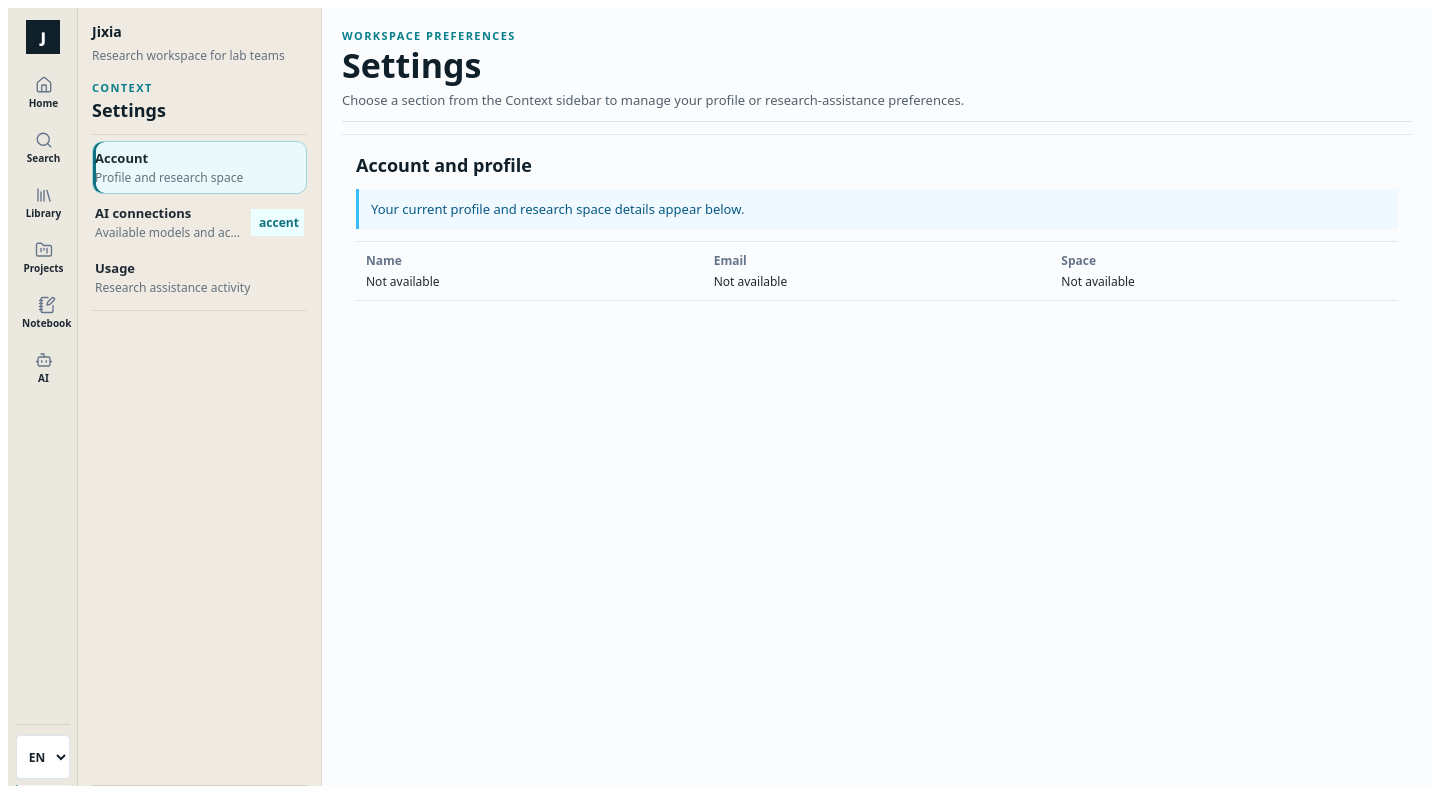
Scenario: App › opens AI usage from the Settings Context sidebar
Click the button "Usage Research assistance activity" at (200, 278), box [92, 251, 307, 304]
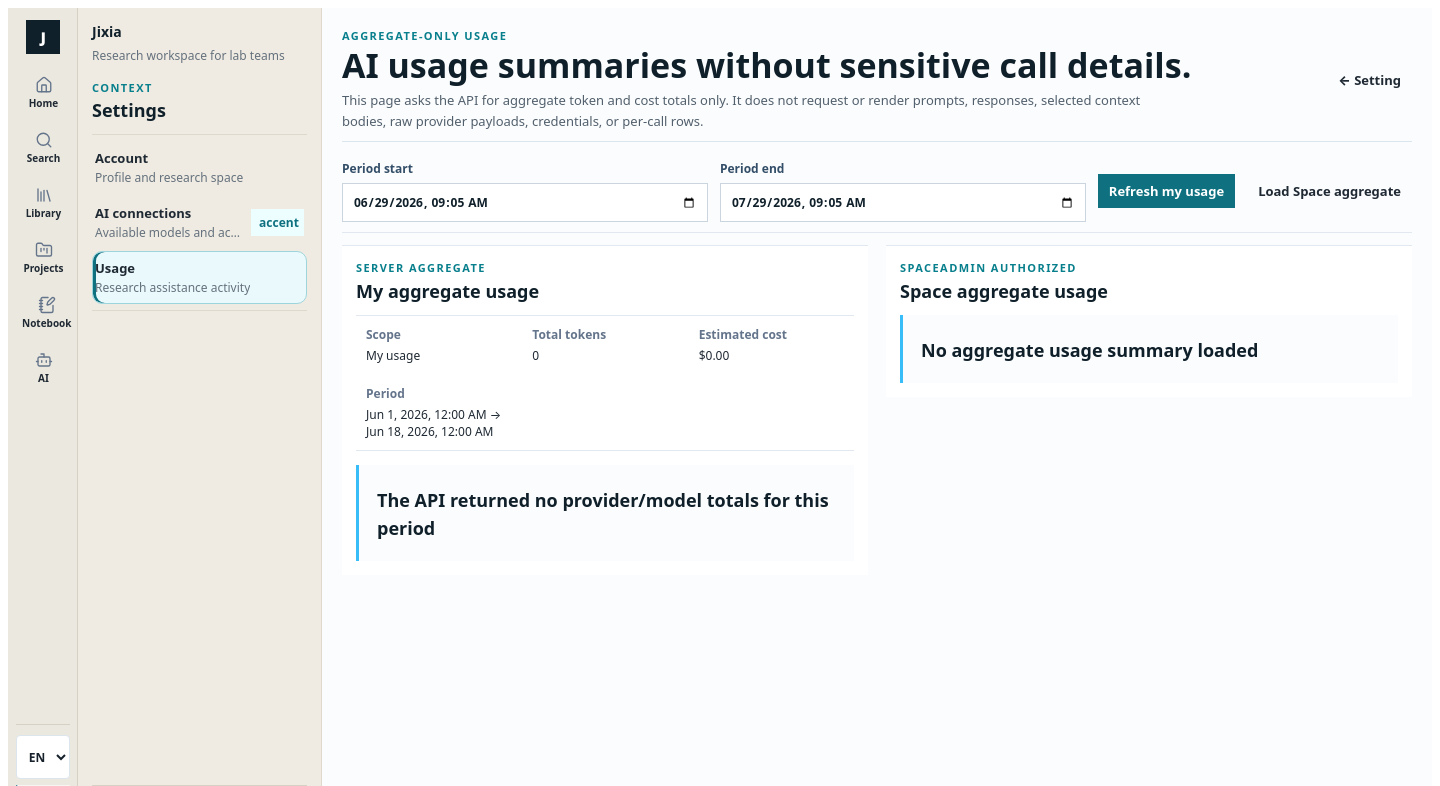
Result: the heading "AI usage summaries without sensitive call details." is shown at [342, 47, 1191, 84]
